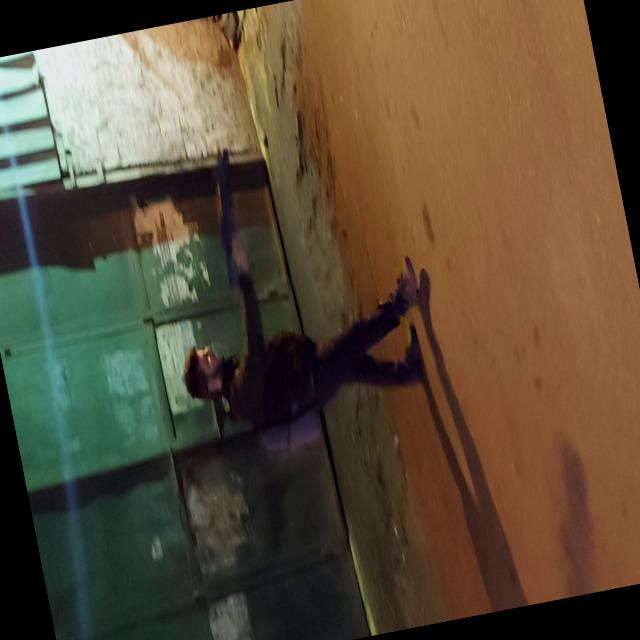long weapon: (186, 118, 272, 306)
